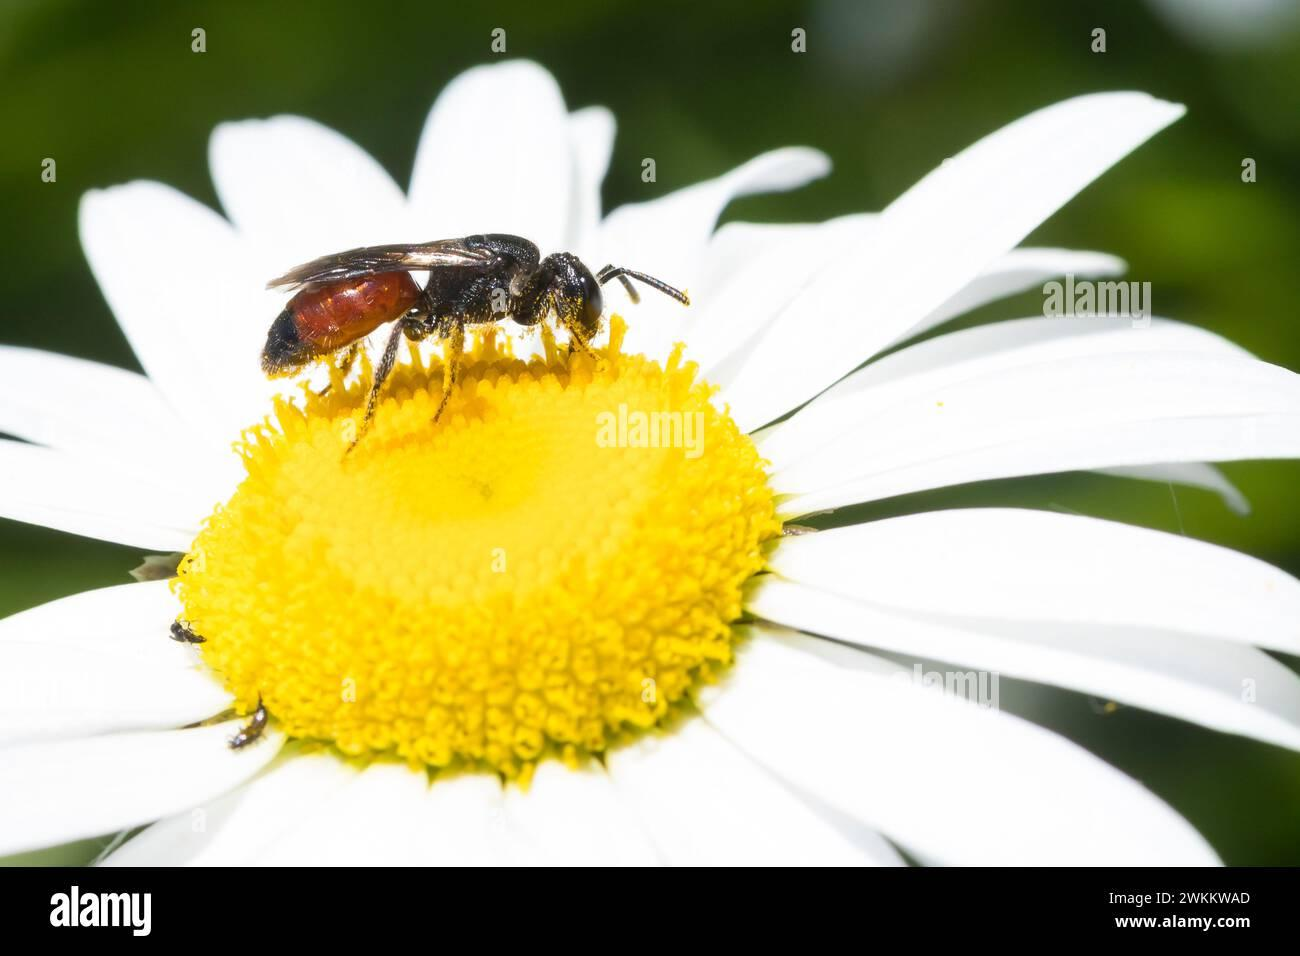Allodapula: (249, 215, 696, 459)
